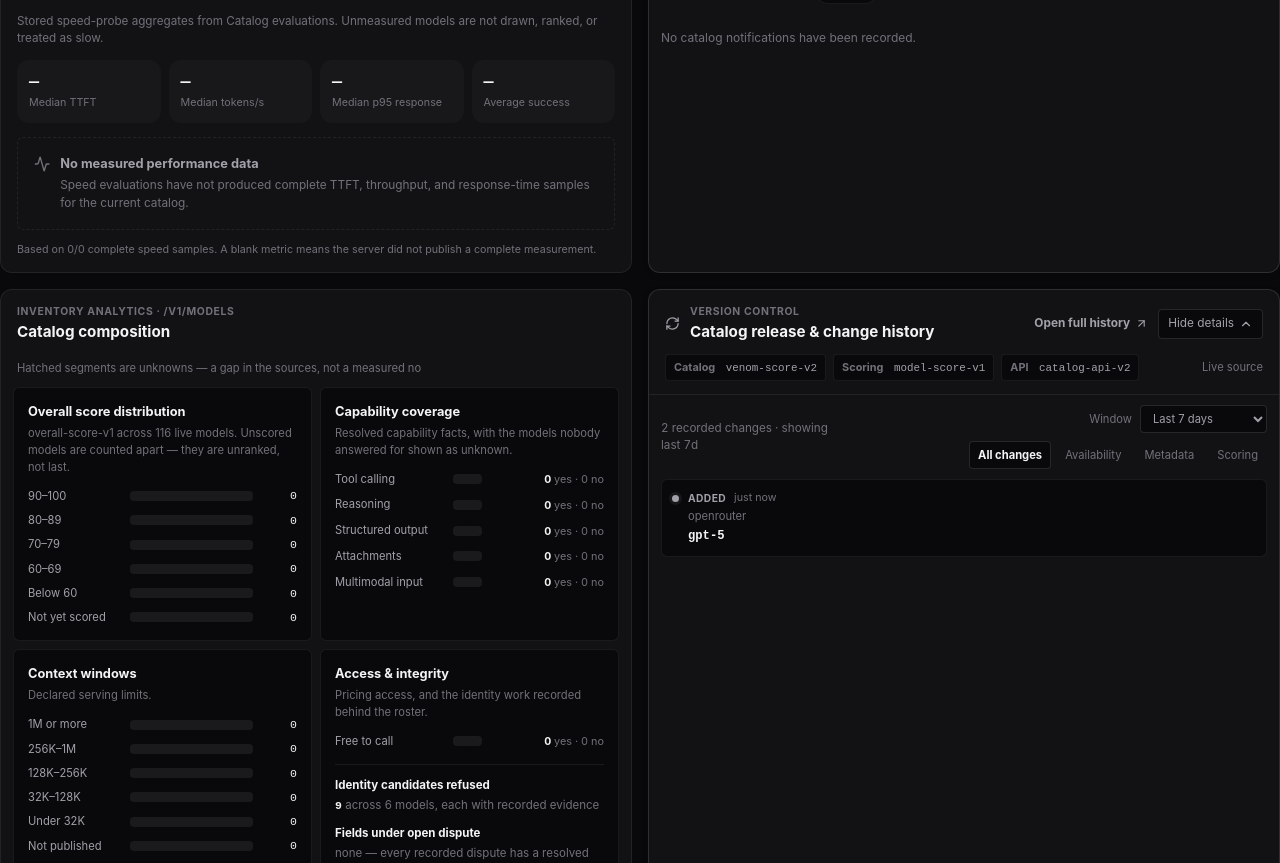
Test: the change-history time window and deep links › shows recent events by default and reveals older events in all-time view
(page scrolled)
Expected: the link "gpt-5" is shown, [688,529,724,543]
Expected: the link "old-model" is not shown
Select "All time" in the dropdown labelled "Window" at (1204, 419), box [1140,405,1267,433]
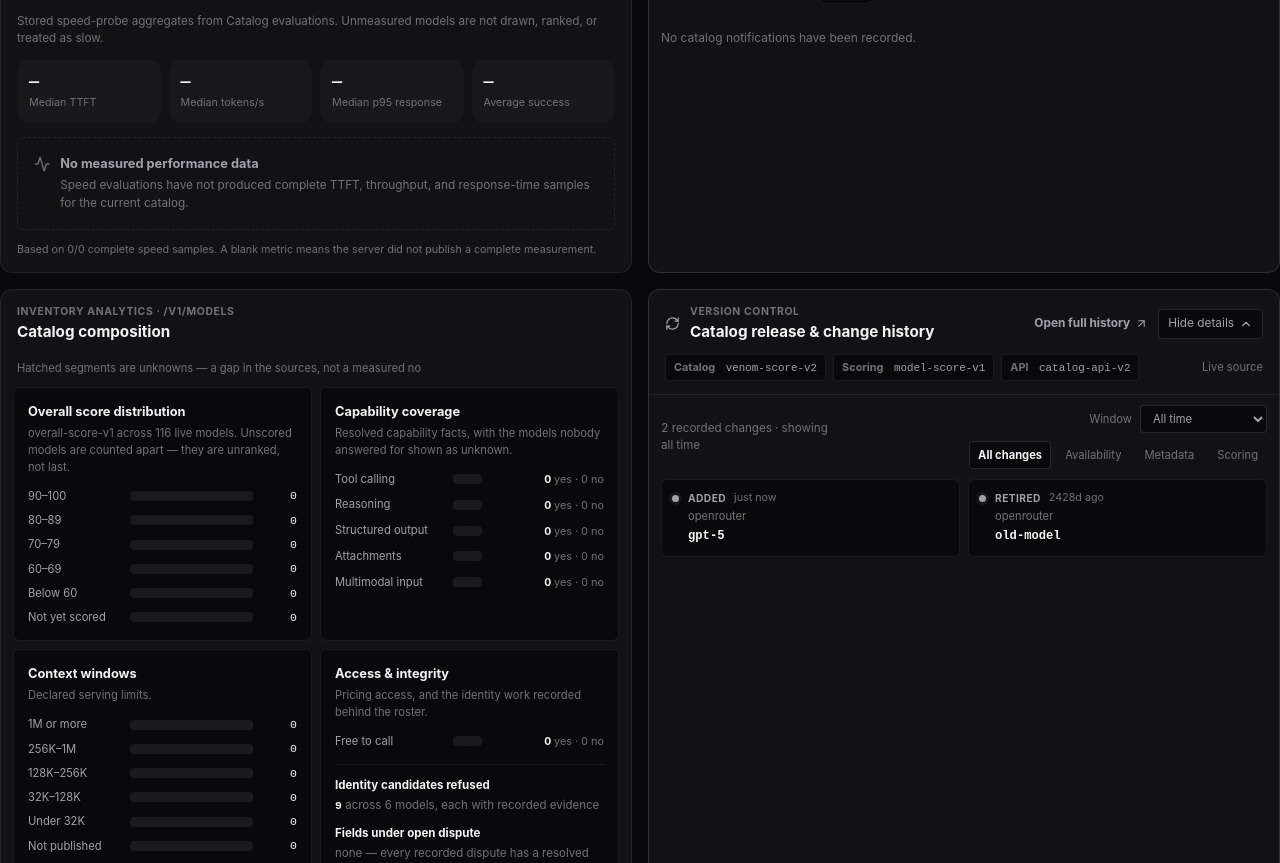
Now the link "old-model" is shown, box [995,529,1061,543]
